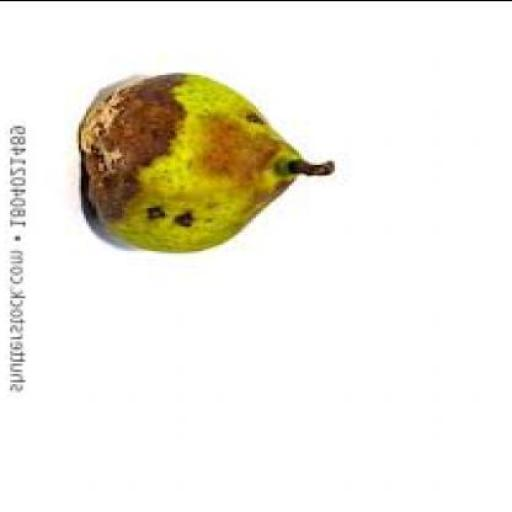biodegradable: (84, 74, 337, 253)
